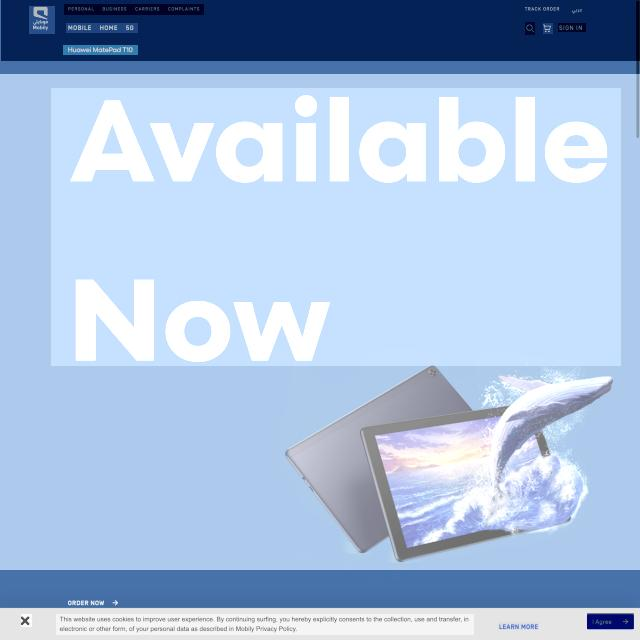CheckBox: (587, 613, 634, 629), (498, 622, 539, 630), (558, 23, 586, 32)
Input field: (57, 614, 474, 635)
SeekBar: (63, 45, 138, 55)
bag: (1, 0, 640, 61)
card: (0, 74, 640, 570)
carousel: (22, 614, 34, 627), (525, 22, 535, 35), (543, 23, 553, 34)
date picker: (29, 6, 55, 34)
decoration: (64, 4, 204, 15), (66, 23, 138, 33)
header: (0, 607, 640, 640)
image: (51, 87, 621, 366)
